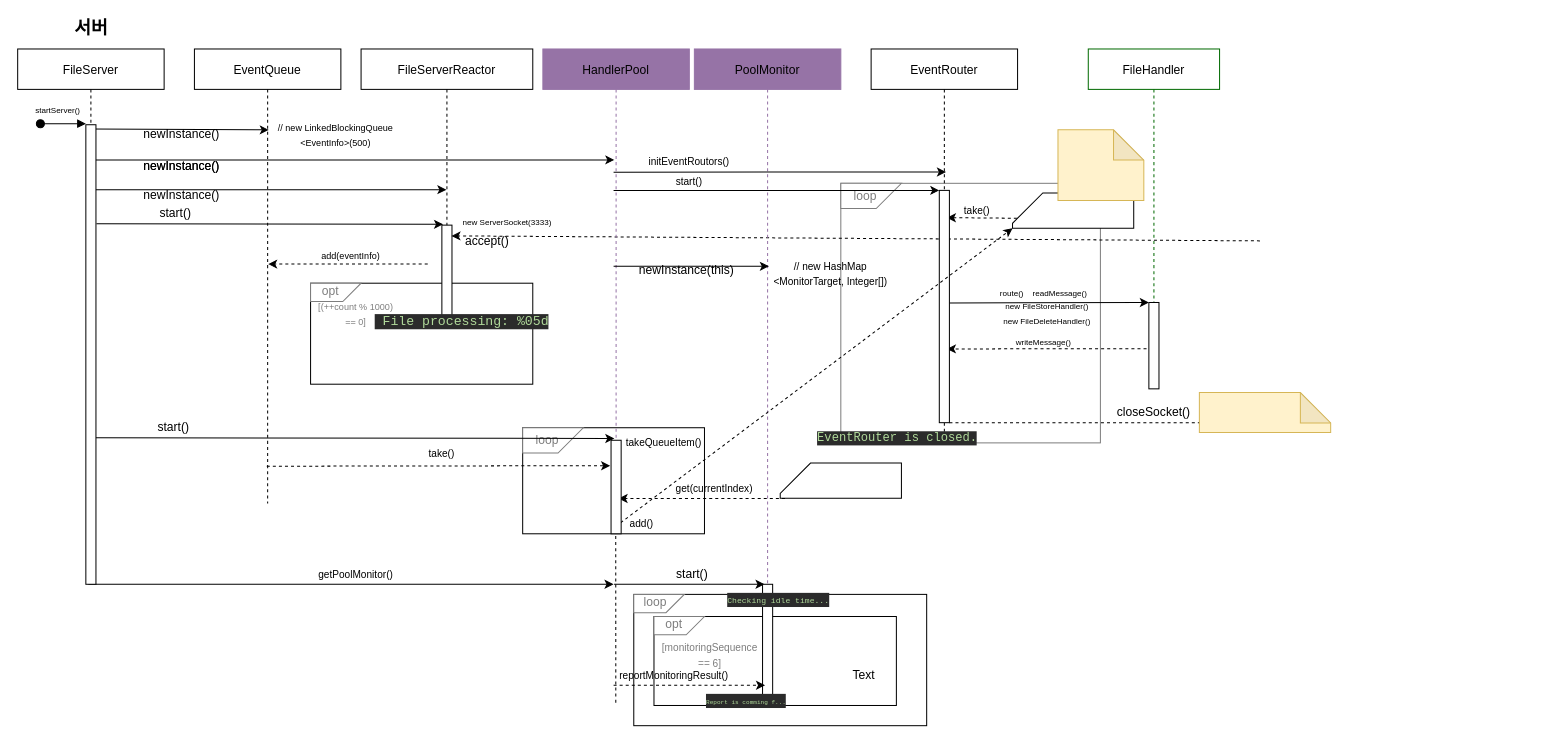
This 1544x752 diagram has some shape labels left out. Each missing label, with the centre of its shape:
"ArrayBlockingQueue <EventInfo>(50)" belongs at (x=1073, y=210).
"InternalQueue take() -> queue.take()과정 생략" belongs at (x=1100, y=164).
"List<EventRouter>" belongs at (x=840, y=480).
"클라이언트 과정 생략" belongs at (x=1264, y=412).
